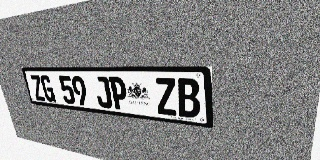5: (58, 76, 76, 105)
9: (70, 76, 89, 106)
B: (176, 78, 201, 119)
G: (39, 75, 56, 102)
J: (93, 76, 113, 109)
P: (108, 77, 129, 111)
Z: (154, 78, 178, 116), (29, 75, 46, 101)
